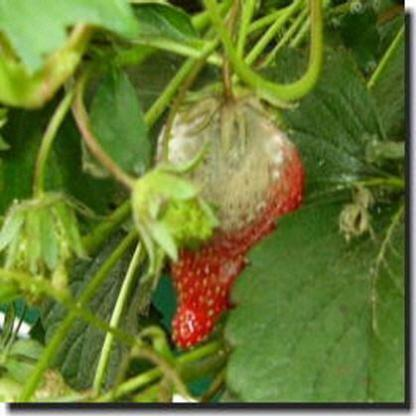Strawberry_Gray_Mold: (157, 96, 300, 260)
